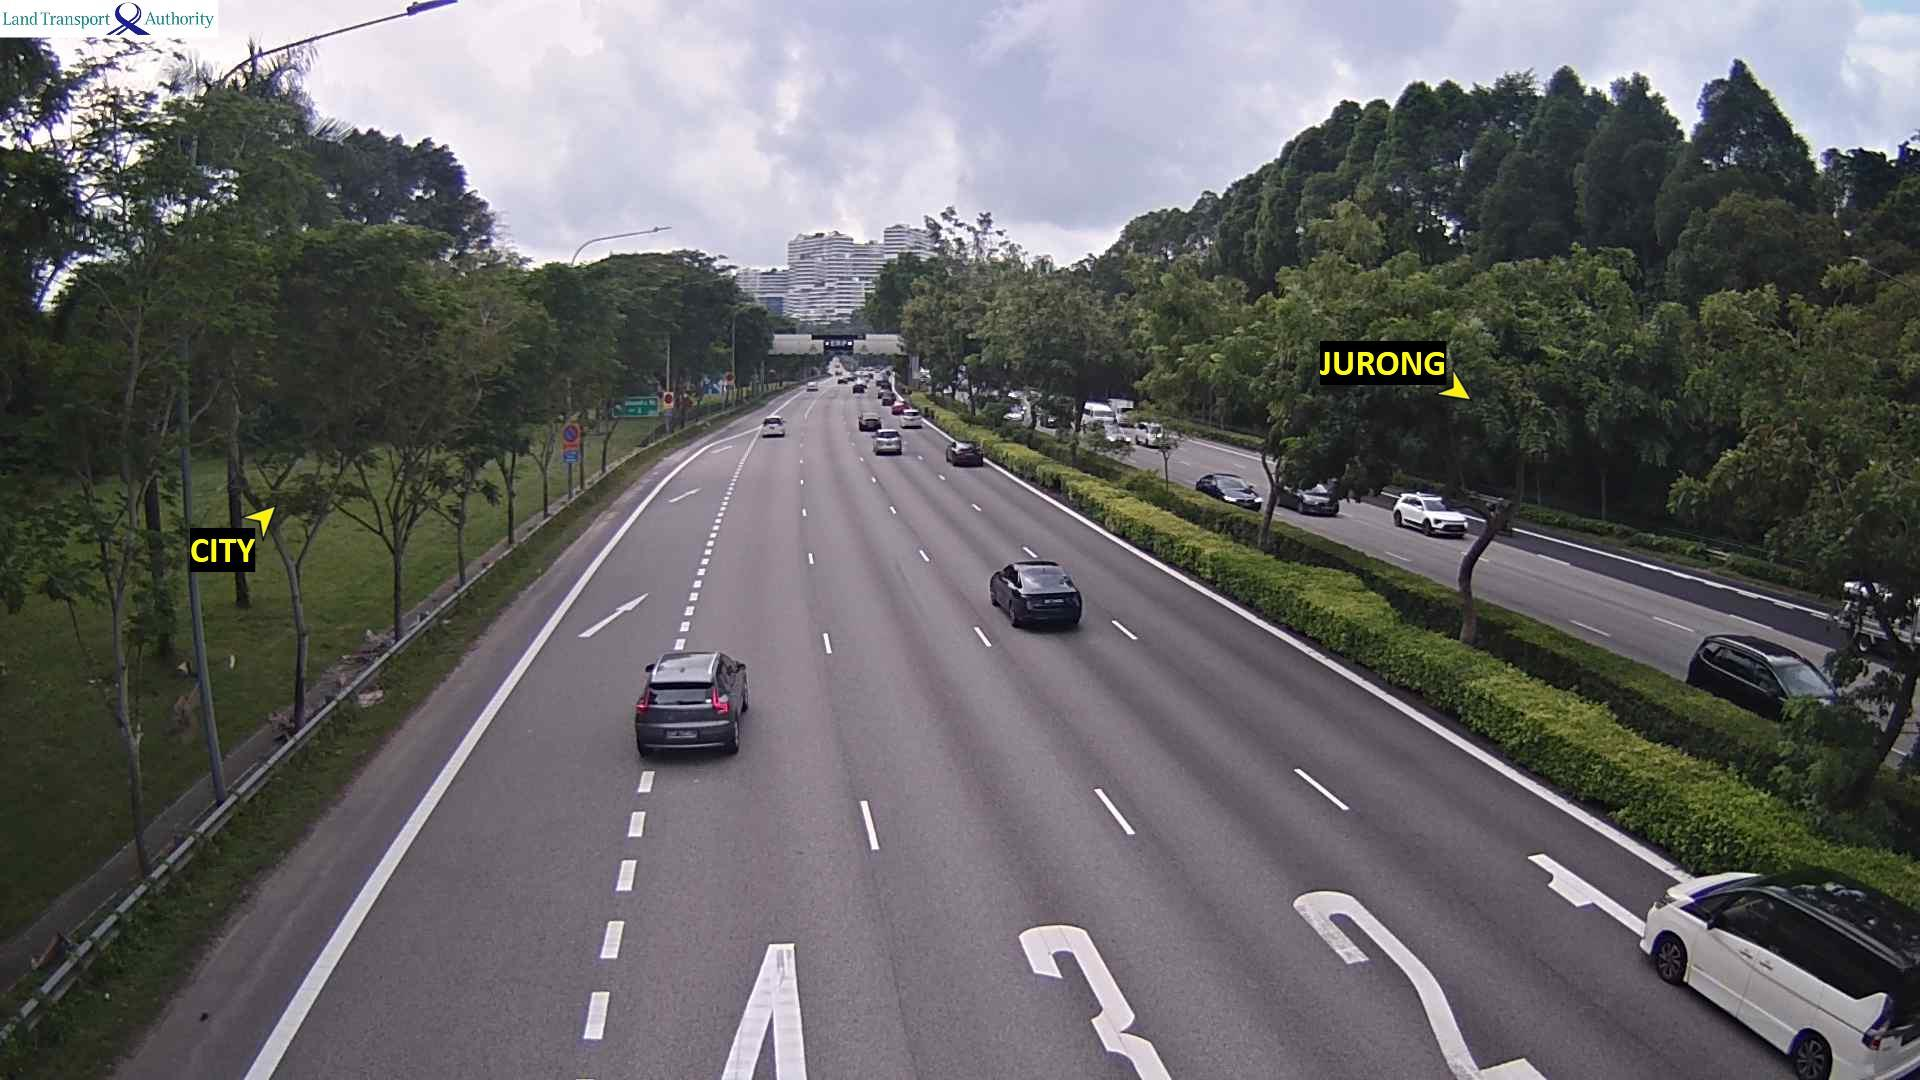cars: (1638, 868, 1919, 1077), (1684, 632, 1913, 767), (1685, 632, 1840, 723), (633, 647, 749, 757), (988, 558, 1083, 628), (1840, 578, 1917, 625), (1391, 491, 1468, 537), (1195, 471, 1262, 510), (1279, 479, 1340, 516), (1072, 396, 1112, 434), (945, 439, 982, 465), (1134, 419, 1164, 447), (872, 429, 903, 455), (1102, 425, 1131, 447), (760, 415, 785, 436), (899, 407, 922, 427), (857, 411, 881, 430), (1004, 404, 1026, 421), (890, 396, 907, 413), (836, 377, 851, 390), (851, 380, 865, 393), (878, 378, 893, 392), (881, 393, 895, 404), (806, 378, 818, 390), (835, 369, 841, 377)
motorcycle: (1824, 578, 1919, 655)
